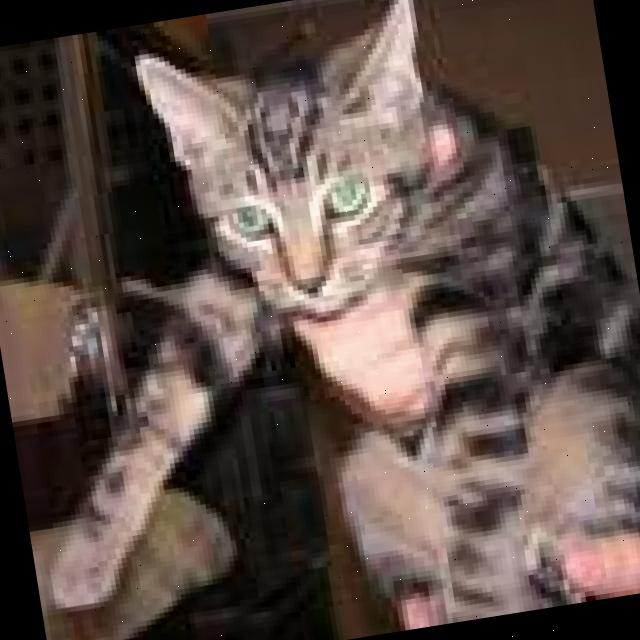cat-eye-normal: (308, 162, 386, 238), (212, 186, 290, 253)
